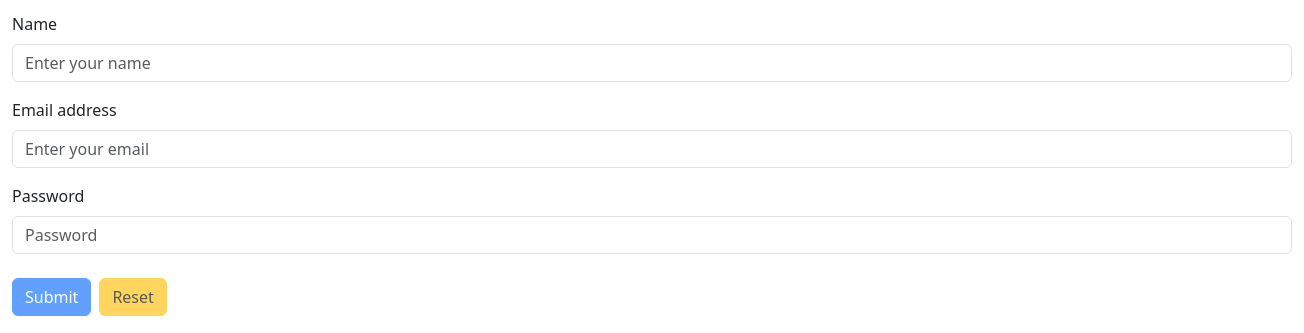
Test: MyForm › enables the submit button when the form is valid
This screenshot has width=1304, height=333.
Type "John Doe" into the field labelled "Name".
click(652, 63); type("John Doe")  # box [12, 44, 1292, 82]
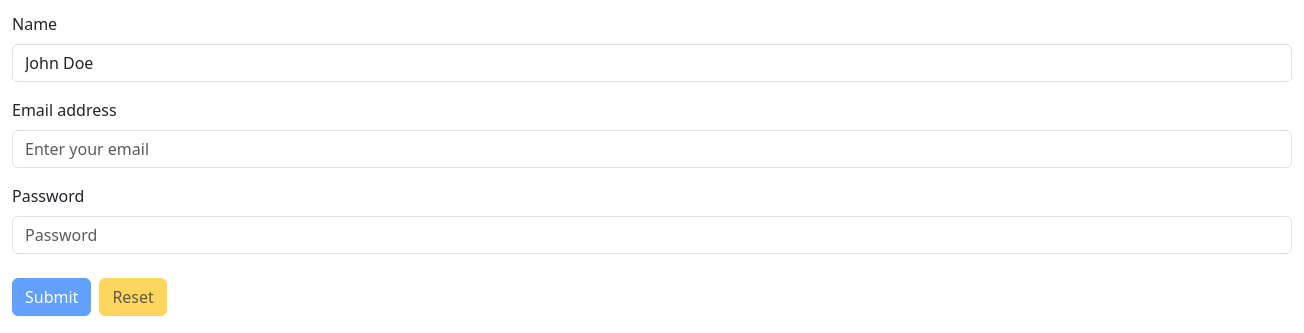
Type "john@example.com" into the field labelled "Email address".
click(652, 149); type("john@example.com")  # box [12, 130, 1292, 168]
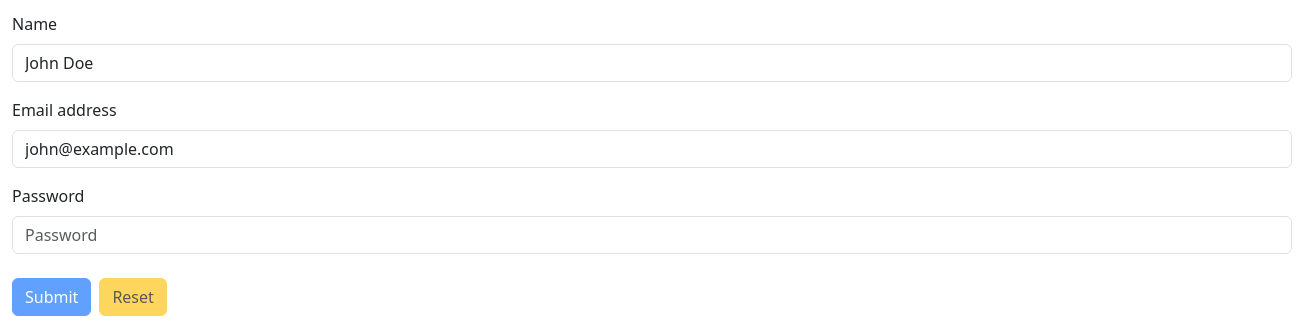
Type "password123" into the password field labelled "Password".
click(652, 235); type("password123")  # box [12, 216, 1292, 254]
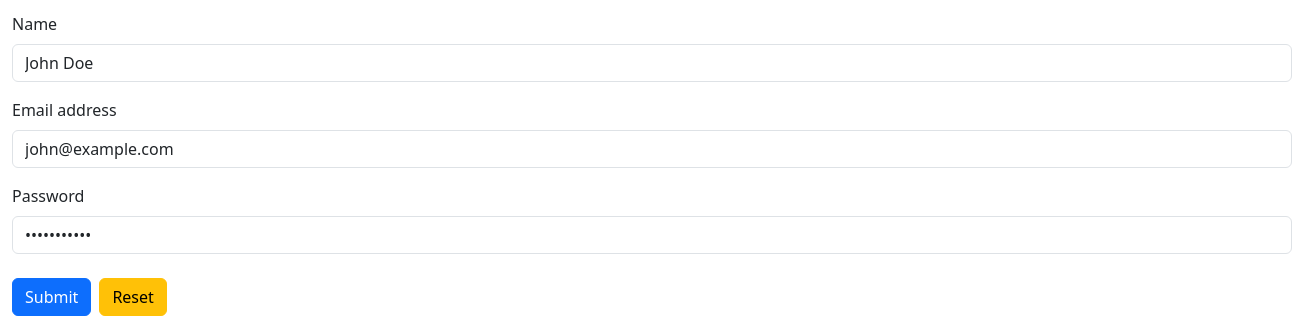
Result: the button "Submit" is enabled at [12, 278, 91, 316]
